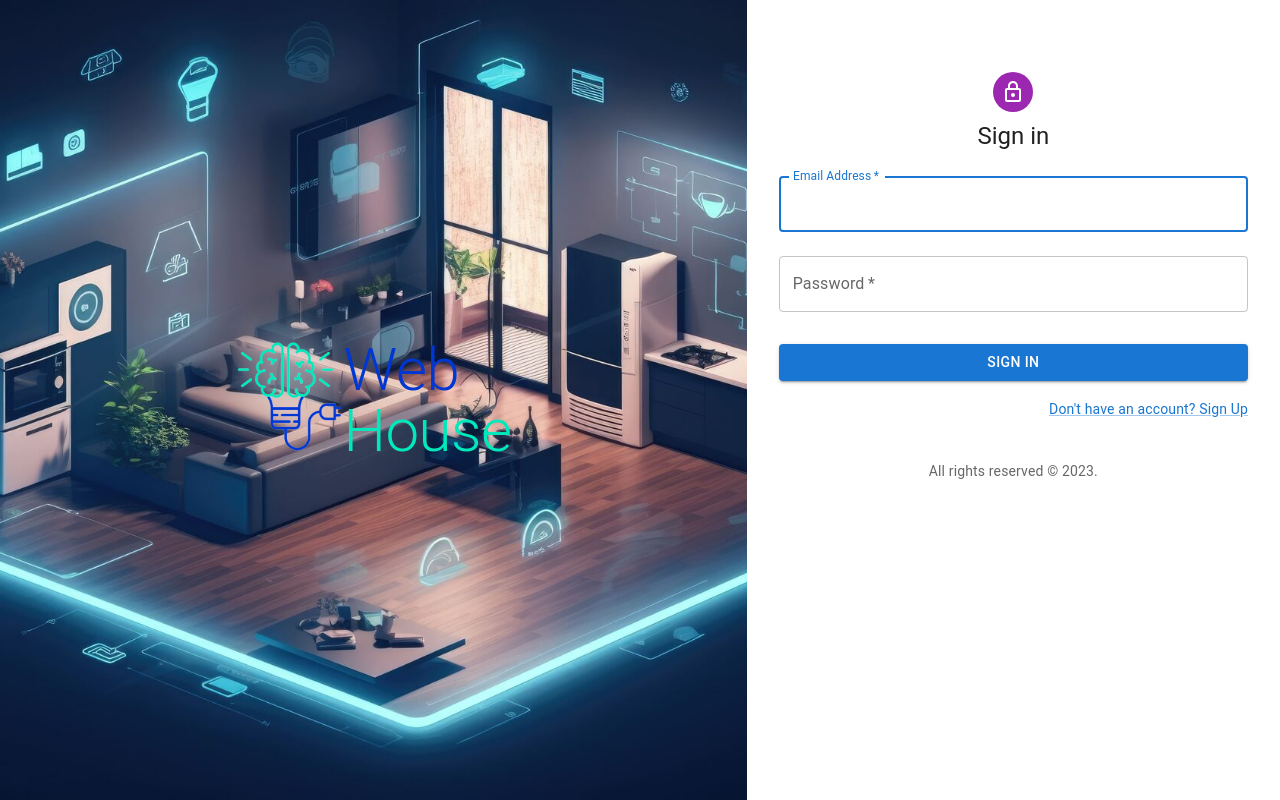
Test: Authorization Page › account authorization wrong credentials
In the field named "email": point(1014, 204) [779,176,1248,232], type "test"
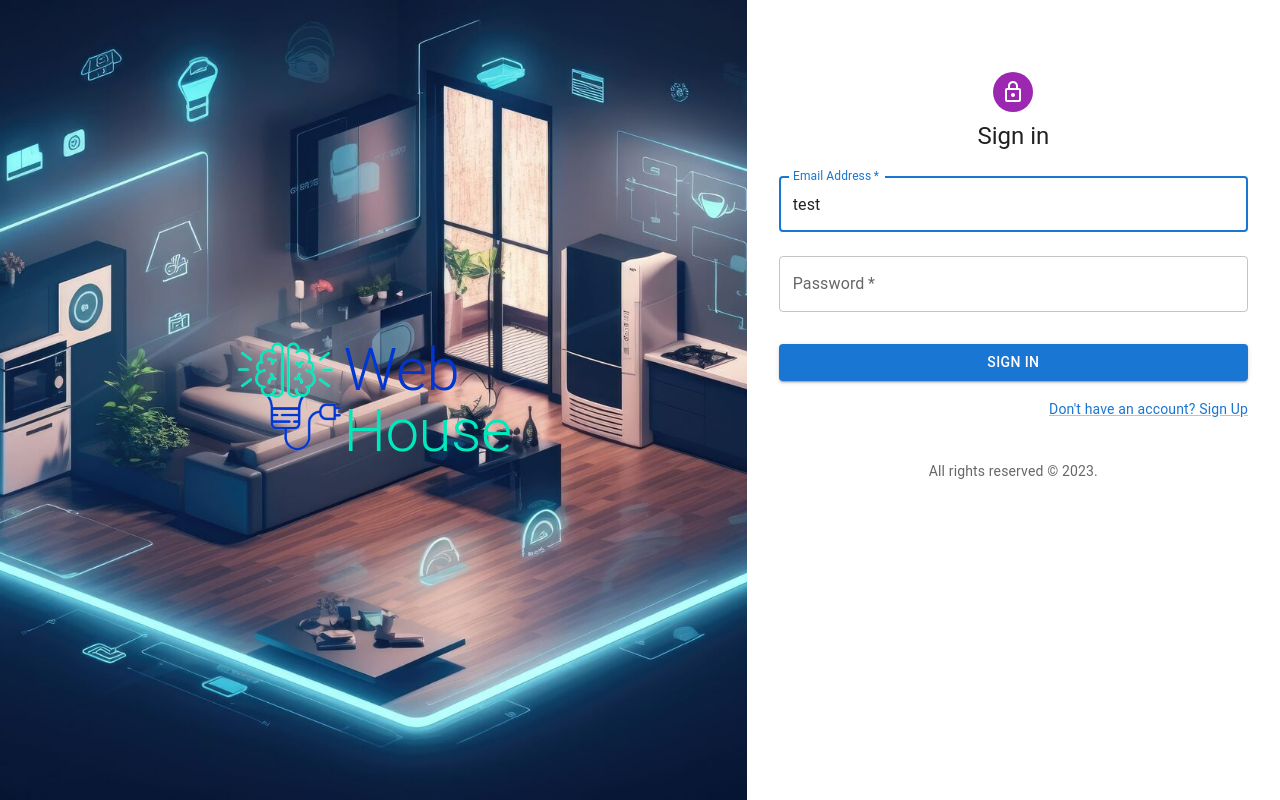
In the password field named "password": point(1014, 284) [779,256,1248,312], type "test"
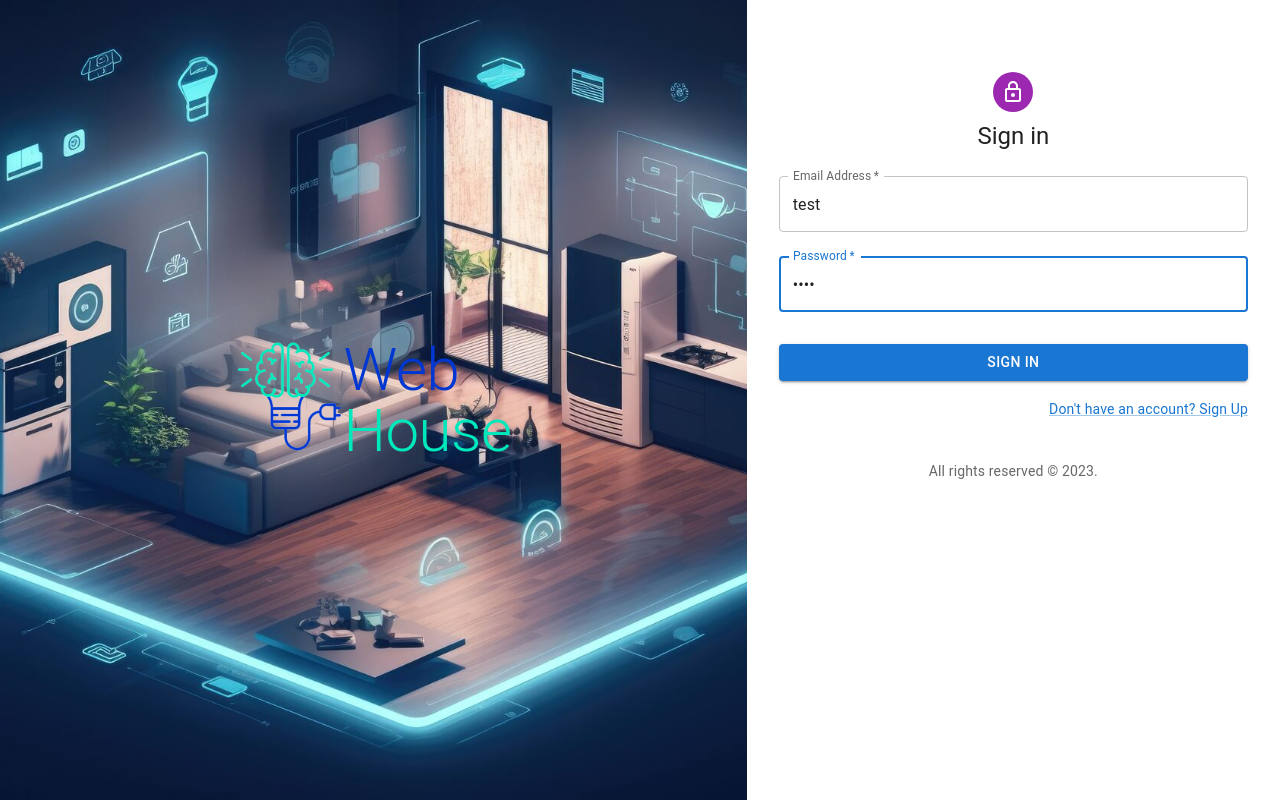
Click the submit button: point(1014, 363) [779,344,1248,381]
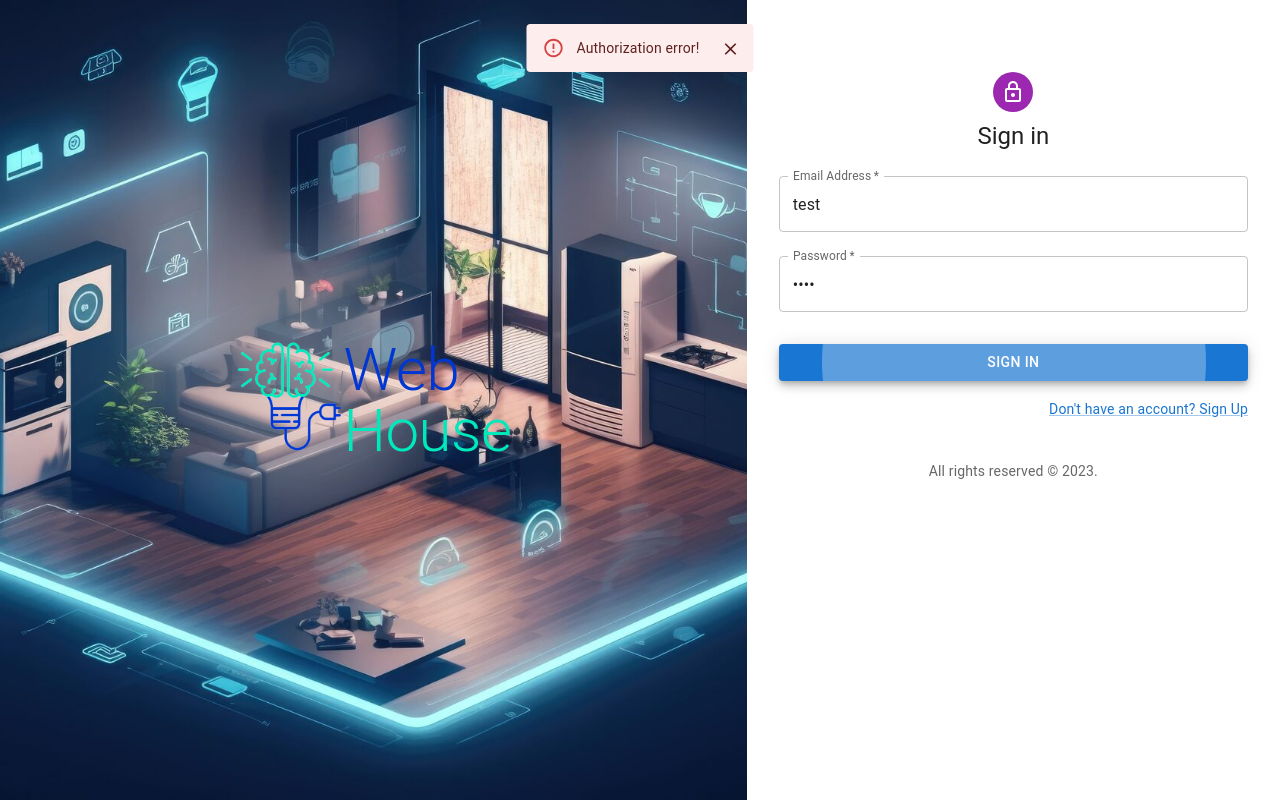
Expected: the text "Authorization error!" is shown, [576,40,700,56]
